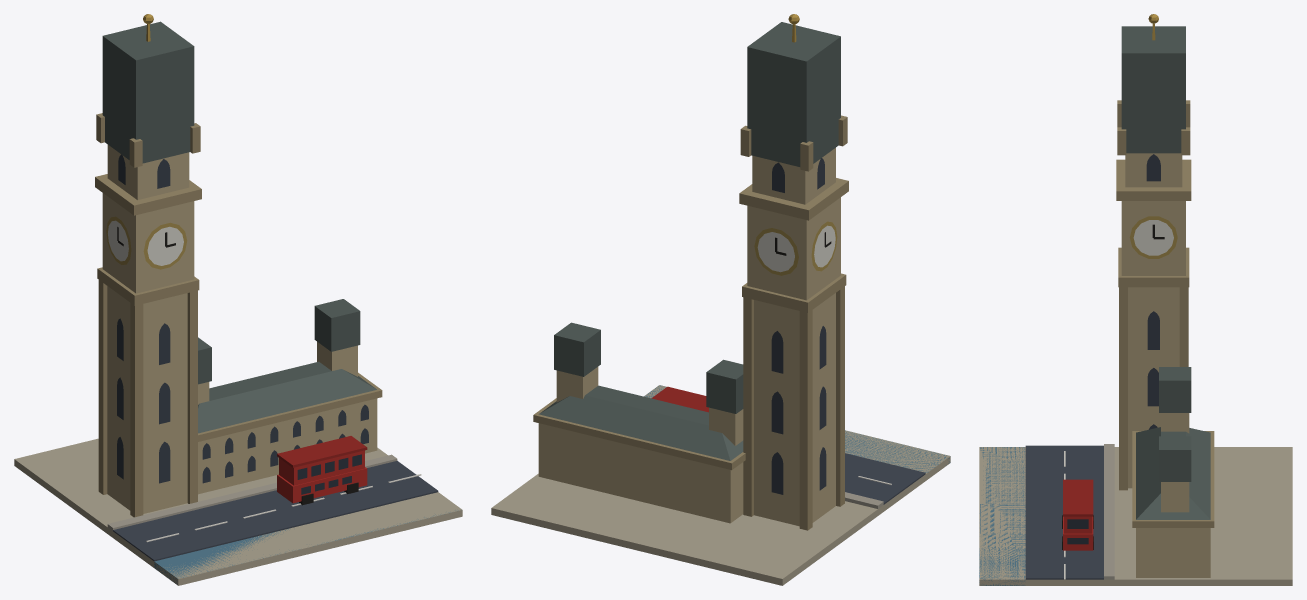
File: bigBen.glb
The picture shows the model from 3 angles, left to right: view 1: azimuth 30°, elevation 25°; view 2: azimuth 150°, elevation 25°; view 3: azimuth 270°, elevation 25°; orthographic projection. The views are drawn at different scales.
Parts seen in each view (by area): view 1: bigBen; view 2: bigBen; view 3: bigBen.
Part boxes in pixels (x1,y1,x2,y2): bigBen: (14, 14, 462, 585); bigBen: (491, 14, 950, 585); bigBen: (979, 14, 1292, 585).
Size of the model in its own units: 1.78 by 2.9 by 1.76.
